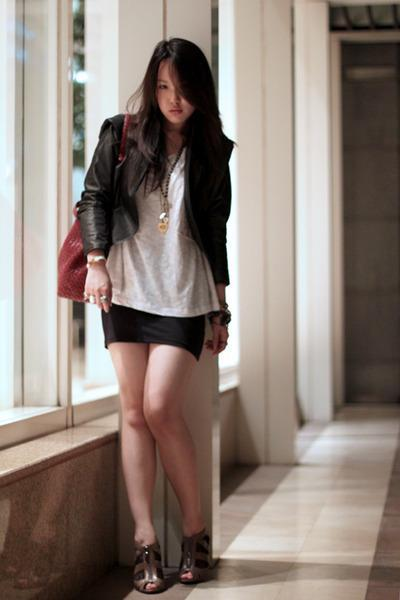bag: (57, 206, 98, 318)
jacket: (76, 108, 233, 290)
shirt: (108, 149, 225, 316)
shoe: (123, 530, 220, 599)
skirt: (102, 303, 203, 347)
